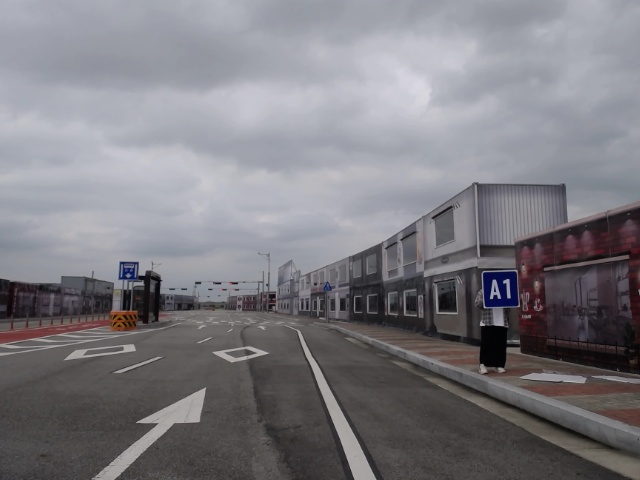delivery_a1: (482, 270, 519, 308)
